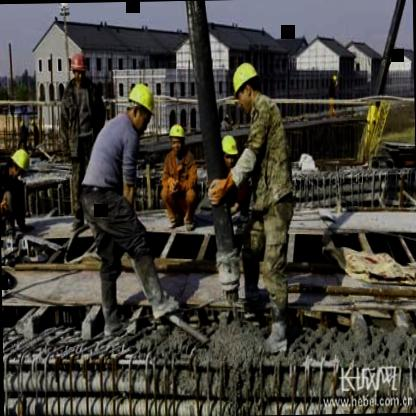helmet: (228, 58, 264, 113), (124, 78, 156, 132), (218, 129, 239, 173), (67, 44, 87, 87), (167, 118, 188, 158), (6, 146, 31, 178)
